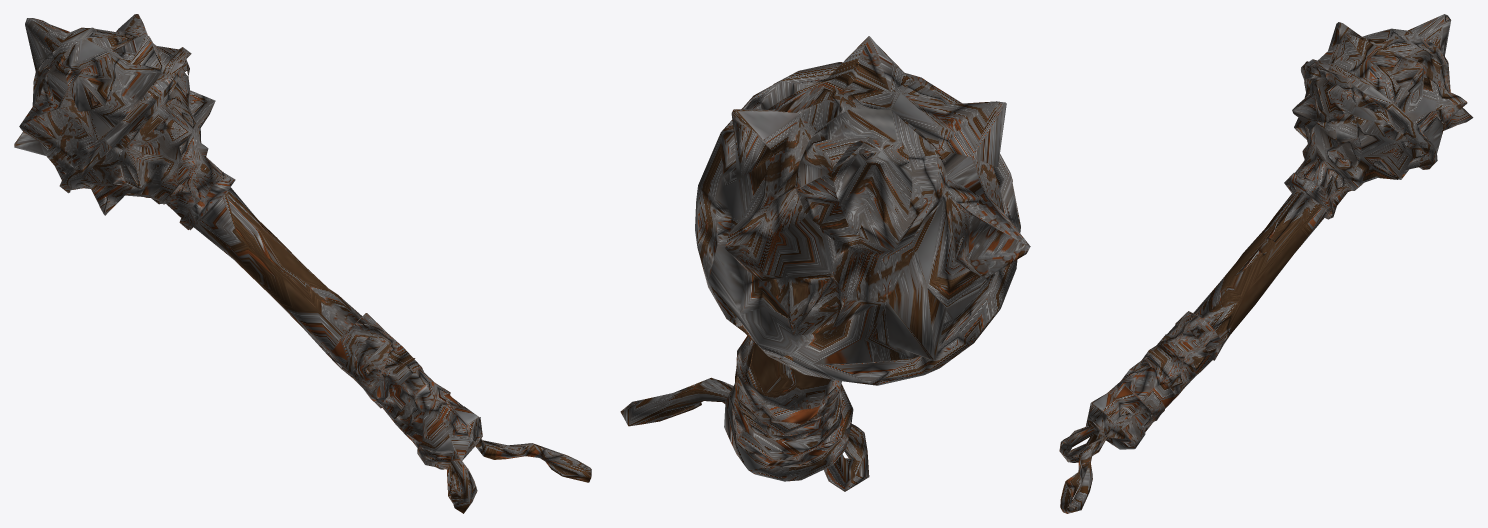
The model's file is w_spiked_mace.glb.
3 views of the same model, side by side, from view 1: azimuth 30°, elevation 25°; view 2: azimuth 150°, elevation 25°; view 3: azimuth 270°, elevation 25° (orthographic). The views are drawn at different scales.
Bounding box in the file's own units: 0.9962 × 0.9591 × 1.
Materials: 1 (1 with a texture image).
